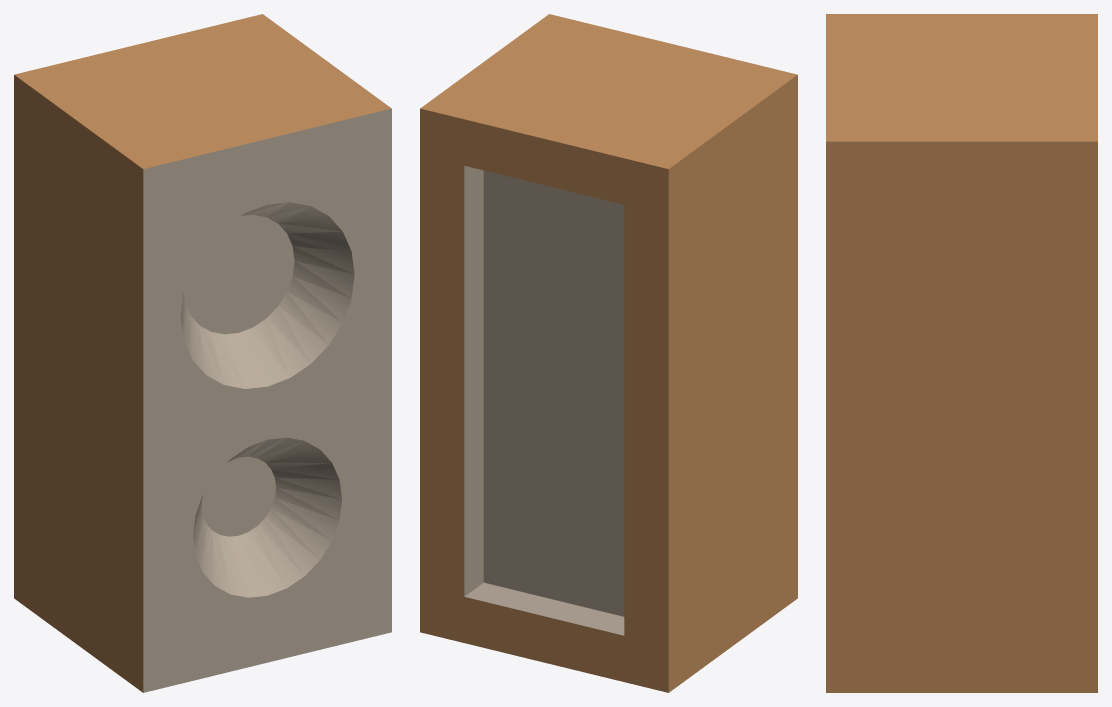
Rendered from kitSpeakerSmall.glb.
3 renders of one model, left to right at view 1: azimuth 30°, elevation 25°; view 2: azimuth 150°, elevation 25°; view 3: azimuth 270°, elevation 25°, orthographic. The views are drawn at different scales.
Parts seen in each view (by area): view 1: kitSpeakerSmall_metalMedium, kitSpeakerSmall_wood; view 2: kitSpeakerSmall_wood, kitSpeakerSmall_metalMedium; view 3: kitSpeakerSmall_wood.
Part boxes in pixels (<box>): kitSpeakerSmall_metalMedium: <box>143,108,391,692</box>; kitSpeakerSmall_wood: <box>14,14,391,692</box>; kitSpeakerSmall_wood: <box>420,14,797,692</box>; kitSpeakerSmall_metalMedium: <box>464,165,624,635</box>; kitSpeakerSmall_wood: <box>826,14,1097,692</box>.
Bounding box in the file's own units: 0.1987 × 0.4 × 0.1788.
